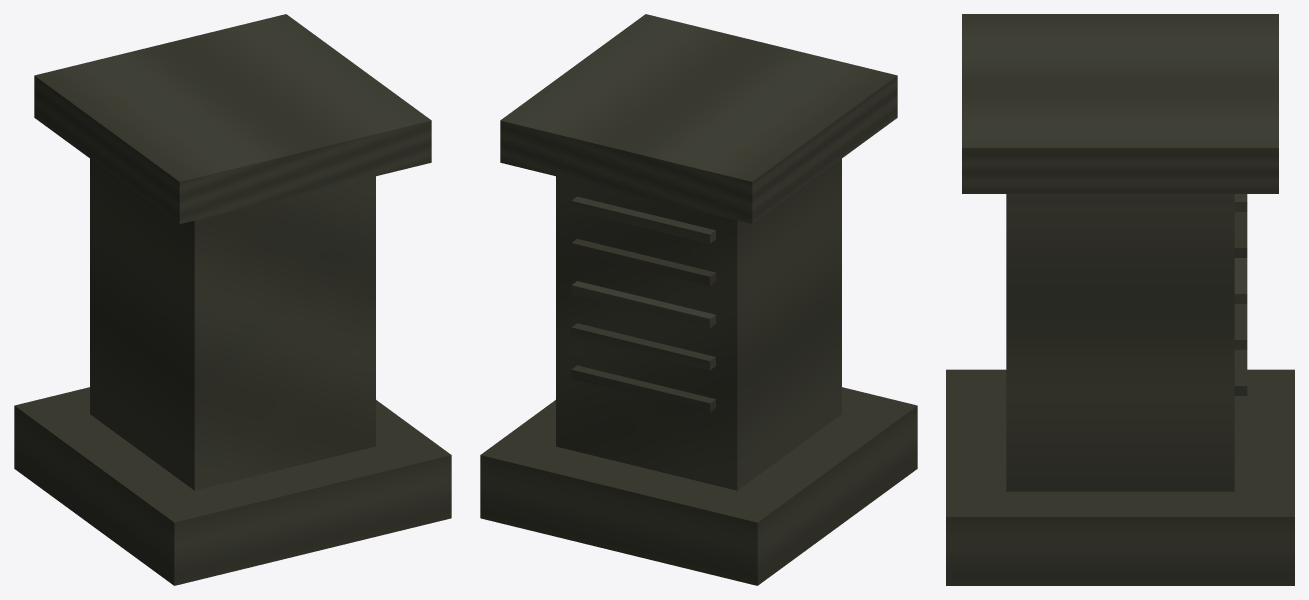
The model's file is env_vent_shaft_2m.glb.
The picture shows the model from 3 angles, left to right: view 1: azimuth 30°, elevation 25°; view 2: azimuth 150°, elevation 25°; view 3: azimuth 270°, elevation 25°; orthographic projection. The views are drawn at different scales.
Visible parts, largest first — view 1: env_vent_shaft_2m; view 2: env_vent_shaft_2m; view 3: env_vent_shaft_2m.
Part boxes in pixels (x1=…): env_vent_shaft_2m: x1=14, y1=14, x2=451, y2=585; env_vent_shaft_2m: x1=480, y1=14, x2=917, y2=585; env_vent_shaft_2m: x1=946, y1=14, x2=1294, y2=585.
Size of the model in its own units: 1.1 by 1.5 by 1.1.
Materials: 1 (1 with a texture image).
